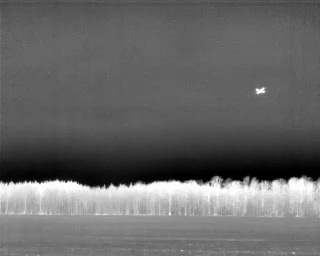DRONE: (252, 82, 270, 99)
